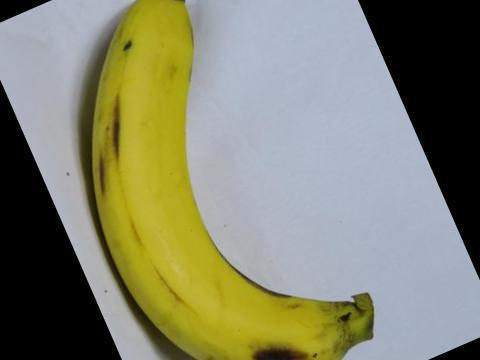freshripe: (74, 0, 388, 359)
